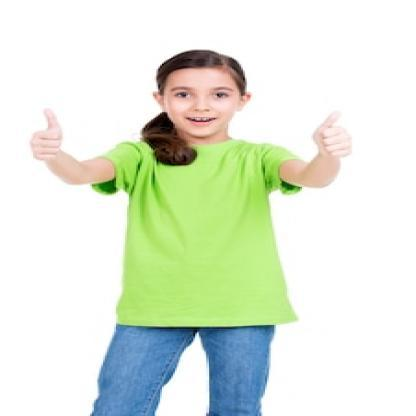thumb_up: (304, 106, 362, 162), (22, 105, 72, 165)
